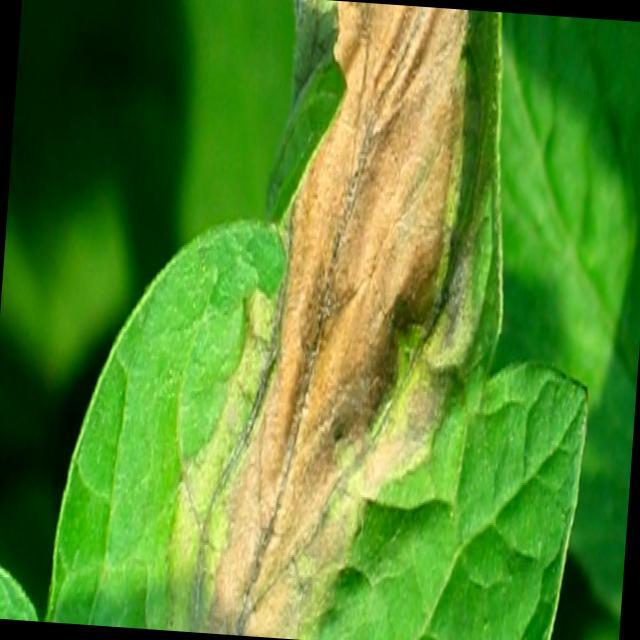Tomato late blight leaf: (42, 0, 640, 640)
